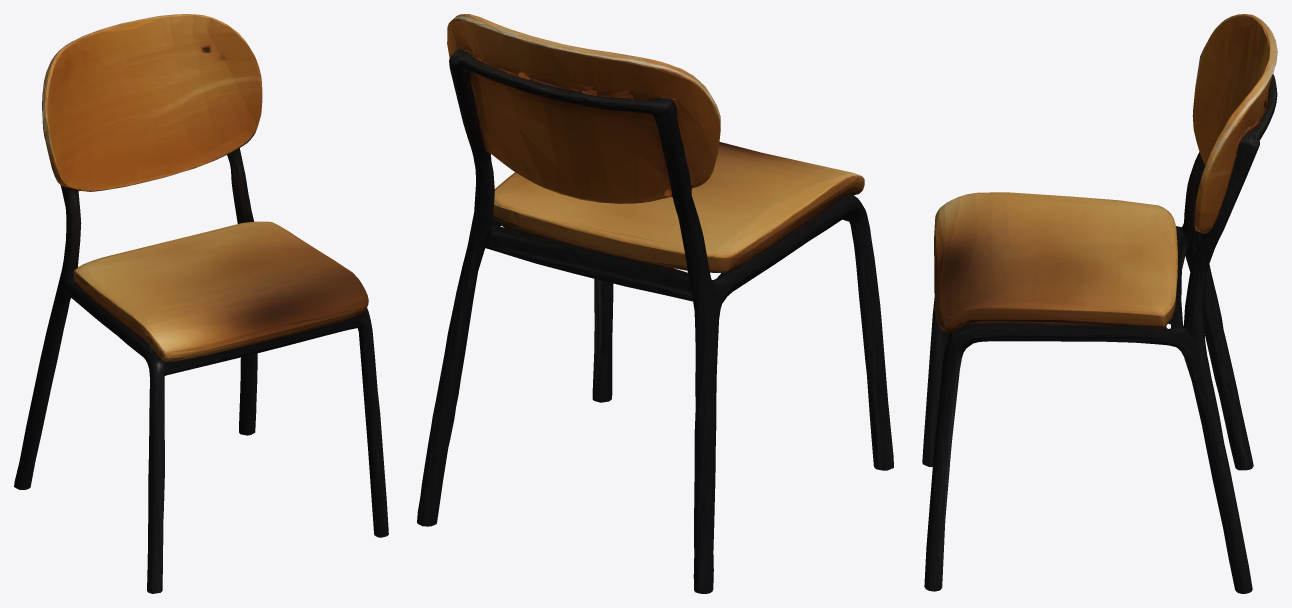
The picture shows the model from 3 angles, left to right: view 1: azimuth 30°, elevation 25°; view 2: azimuth 150°, elevation 25°; view 3: azimuth 270°, elevation 25°; orthographic projection. The views are drawn at different scales.
Parts seen in each view (by area): view 1: geometry_0; view 2: geometry_0; view 3: geometry_0.
Boxes of the visible parts, x1,y1,x2,y2 form: geometry_0: (14,14,388,593); geometry_0: (417,14,893,593); geometry_0: (922,14,1277,593).
Bounding box in the file's own units: 0.6033 × 1 × 0.6734.
1 material, 1 textured.
